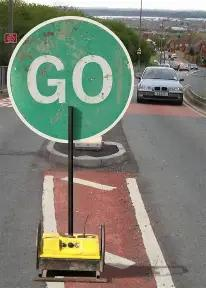Go: (9, 19, 130, 141)
